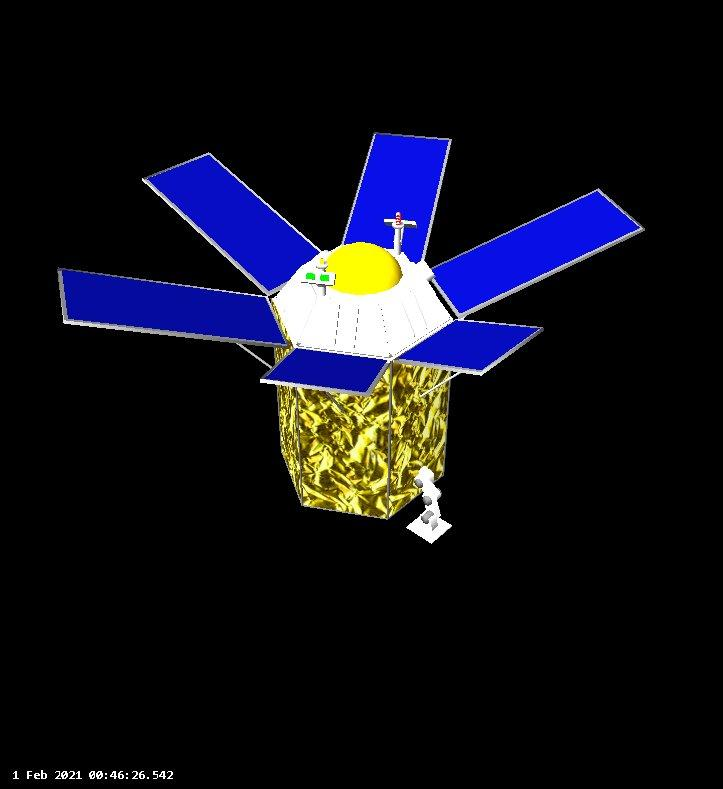antenna: (405, 502, 456, 544), (298, 254, 340, 302), (381, 209, 420, 256)
body: (271, 344, 454, 521)
solar: (424, 183, 647, 317), (142, 150, 326, 295), (56, 263, 292, 351), (339, 131, 452, 266), (394, 318, 546, 376), (258, 347, 390, 397)
